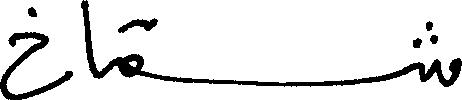X: (0, 2, 71, 99), (420, 16, 461, 91), (120, 14, 143, 82), (82, 0, 96, 82)
